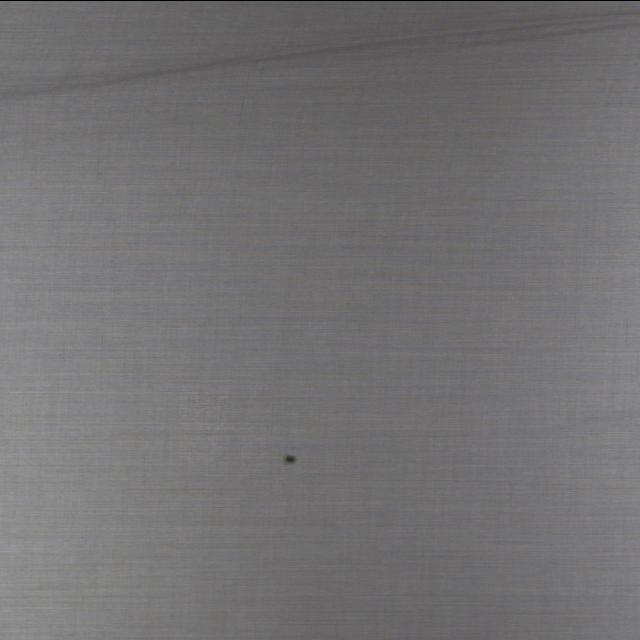dirty: (283, 453, 299, 464)
